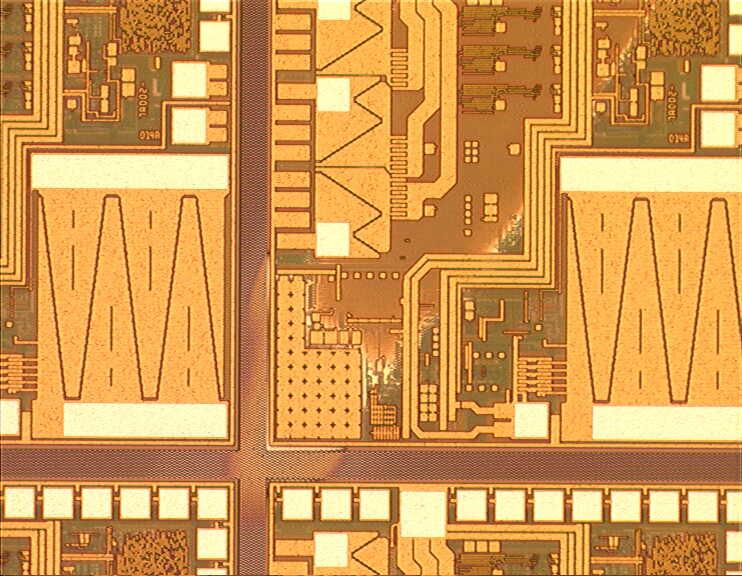BLOCK ETCH: (218, 1, 665, 524)
